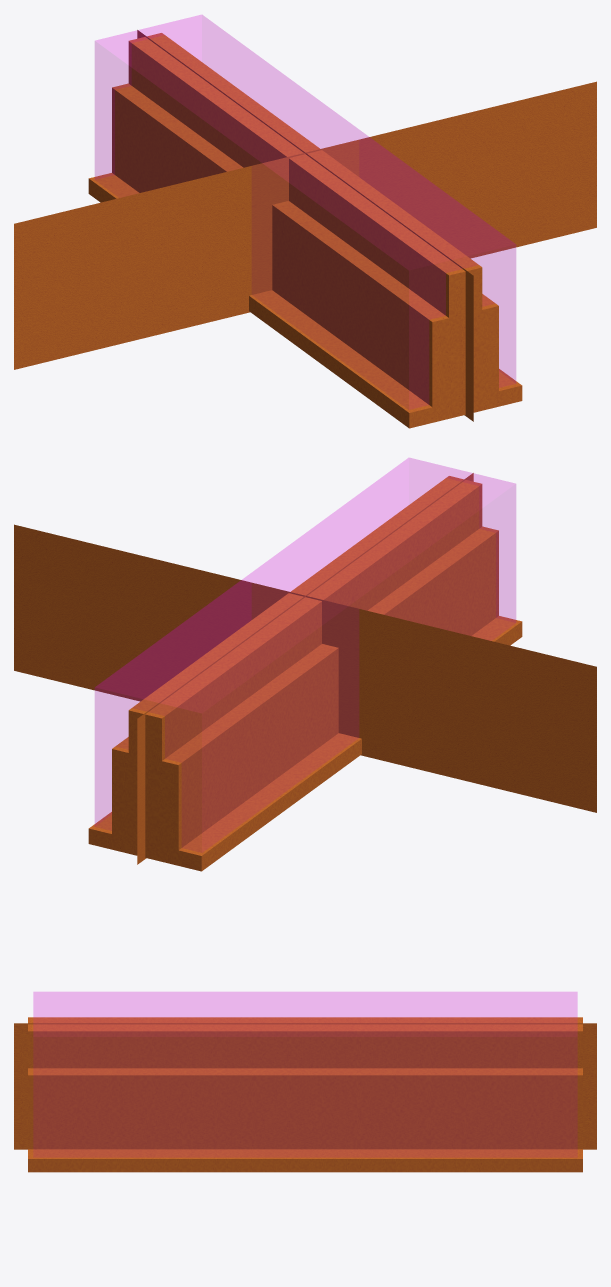
File: krail_orange_3m.dae
3 views of the same model, one above another, from view 1: azimuth 30°, elevation 25°; view 2: azimuth 150°, elevation 25°; view 3: azimuth 270°, elevation 25° (orthographic). The views are drawn at different scales.
Visible parts, largest first — view 1: krail_orange_3m_a50, Colmesh_krail-1, krail_orange_3m_a800, krail_orange_3m_a200; view 2: krail_orange_3m_a50, Colmesh_krail-1, krail_orange_3m_a800, krail_orange_3m_a200; view 3: krail_orange_3m_a800, Colmesh_krail-1, krail_orange_3m_a200, krail_orange_3m_a50.
Boxes of the visible parts, bbox=[...] form: krail_orange_3m_a50: bbox=[14, 30, 596, 421]; Colmesh_krail-1: bbox=[95, 15, 515, 408]; krail_orange_3m_a800: bbox=[88, 33, 522, 428]; krail_orange_3m_a200: bbox=[116, 175, 498, 407]; krail_orange_3m_a50: bbox=[14, 473, 596, 864]; Colmesh_krail-1: bbox=[95, 458, 515, 851]; krail_orange_3m_a800: bbox=[88, 476, 522, 871]; krail_orange_3m_a200: bbox=[112, 527, 498, 849]; krail_orange_3m_a800: bbox=[28, 1017, 582, 1172]; Colmesh_krail-1: bbox=[33, 992, 577, 1156]; krail_orange_3m_a200: bbox=[28, 1068, 580, 1149]; krail_orange_3m_a50: bbox=[14, 1023, 596, 1149].
Size of the model in its own units: 3.15 by 3.15 by 0.8074.
2 materials, 1 textured.
